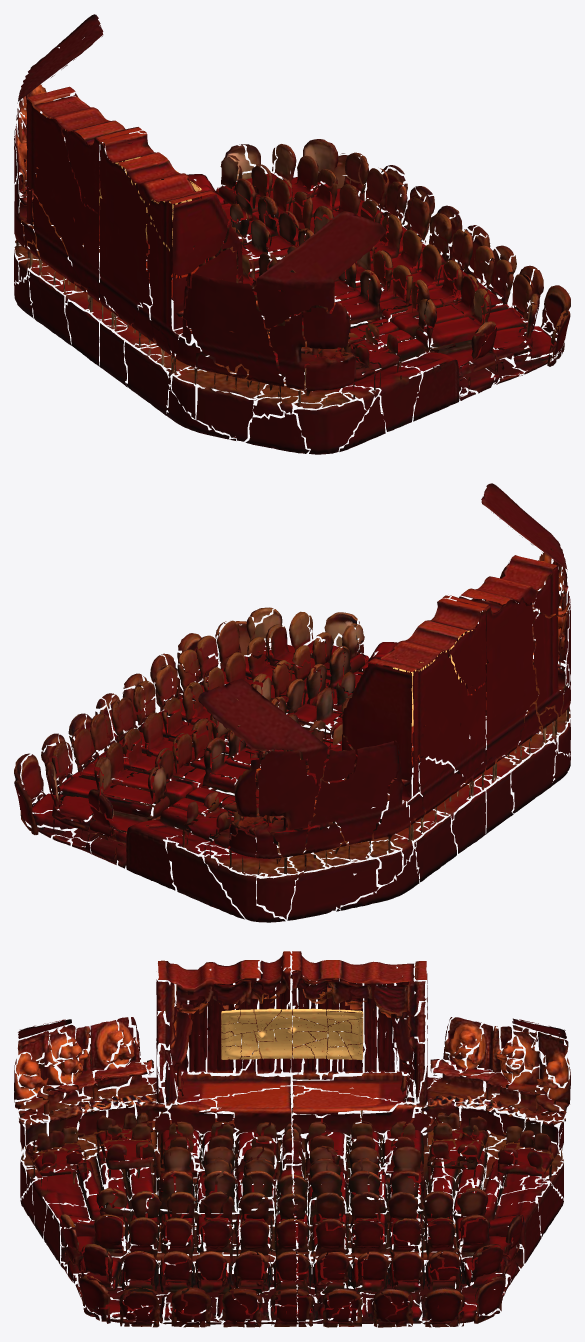
The model's file is lubiak_scene11_textured.glb.
The picture shows the model from 3 angles, top to bottom: view 1: azimuth 30°, elevation 25°; view 2: azimuth 150°, elevation 25°; view 3: azimuth 270°, elevation 25°; orthographic projection. The views are drawn at different scales.
Parts seen in each view (by area): view 1: tripo_node_d65af099-130b-498f-9d3e-e5e3401ee05a; view 2: tripo_node_d65af099-130b-498f-9d3e-e5e3401ee05a; view 3: tripo_node_d65af099-130b-498f-9d3e-e5e3401ee05a, tripo_node_acc0a139-8445-433a-b5fd-83d3d7b331c8.
Boxes of the visible parts, x1,y1,x2,y2 form: tripo_node_d65af099-130b-498f-9d3e-e5e3401ee05a: (14,14,570,454); tripo_node_d65af099-130b-498f-9d3e-e5e3401ee05a: (14,483,570,922); tripo_node_d65af099-130b-498f-9d3e-e5e3401ee05a: (14,951,570,1327); tripo_node_acc0a139-8445-433a-b5fd-83d3d7b331c8: (221,1008,363,1059).
Size of the model in its own units: 18.48 by 10.45 by 25.15.
2 materials, 2 textured.
